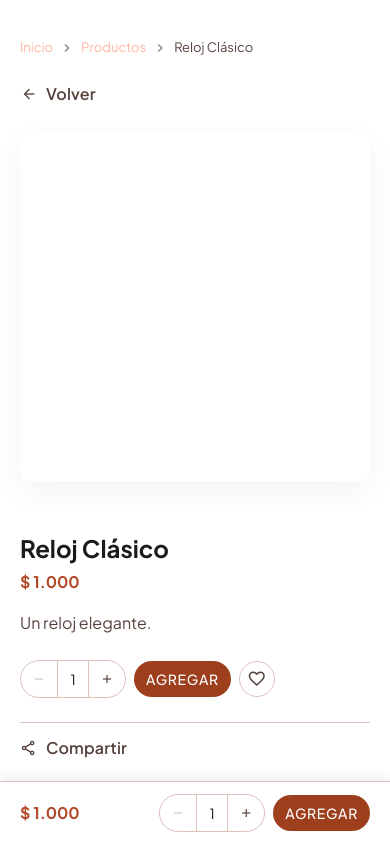
Scenario: ProductoDetalle — CTA sticky mobile › el CTA sticky permite agregar al carrito
The image size is (390, 844).
Step 1. Click the 2nd button "Agregar" → x=322, y=813, box [273, 795, 370, 831]
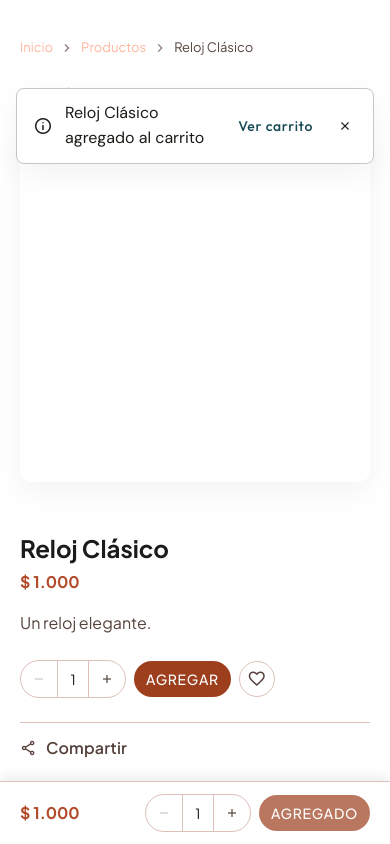
Now the button "Agregado" is shown, box [259, 795, 370, 831]
